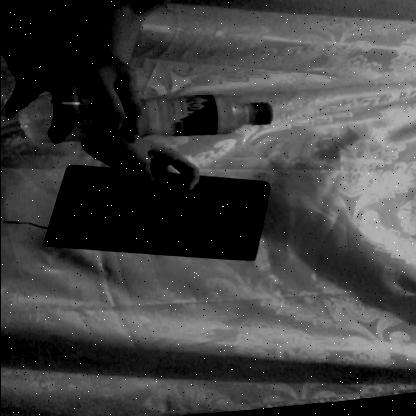Plastic Bottle: (12, 77, 289, 148)
